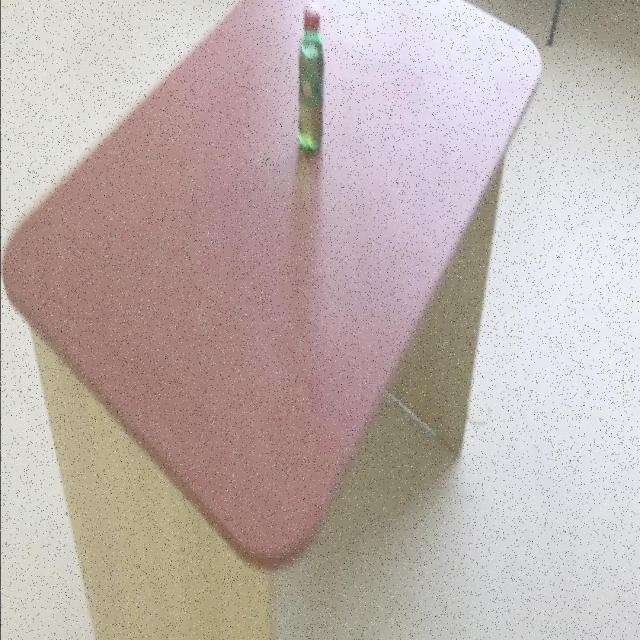Guarana: (1, 0, 544, 574), (297, 7, 326, 160)
